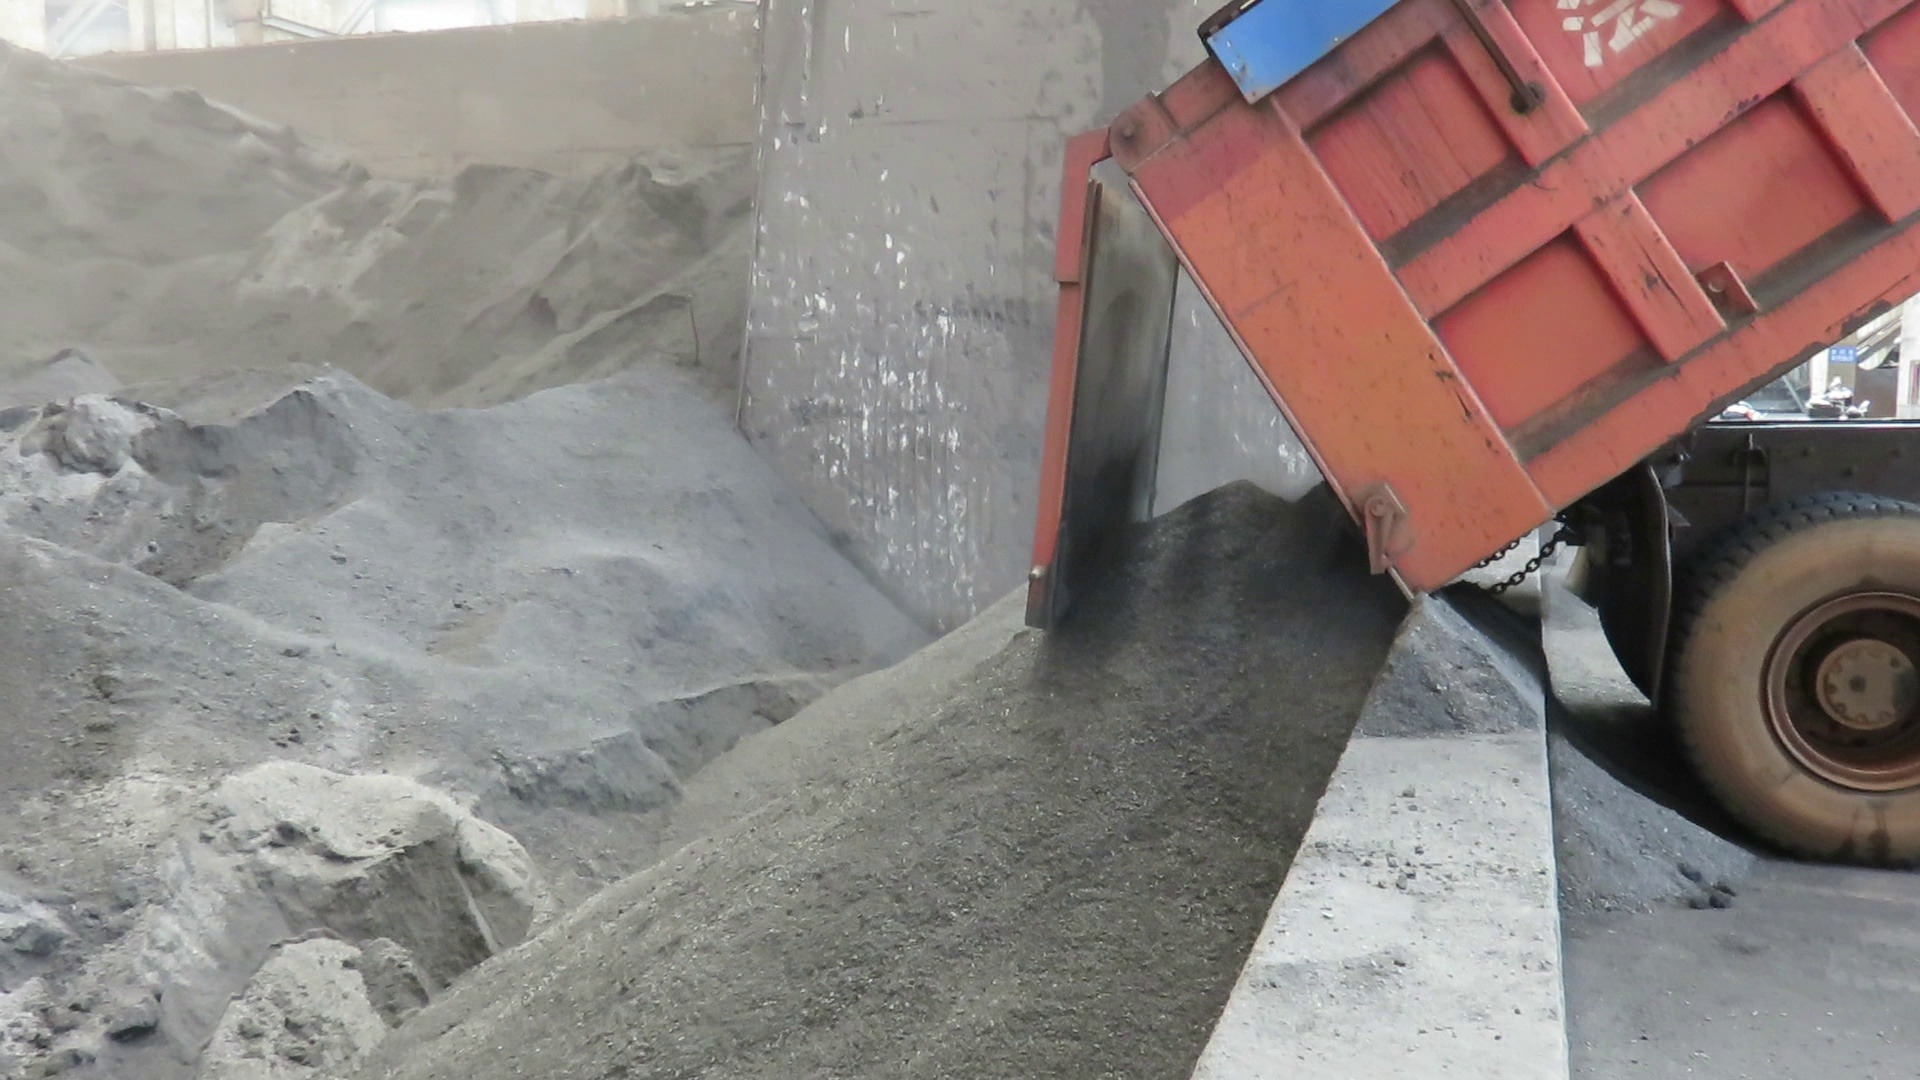truck: (984, 0, 1919, 886)
